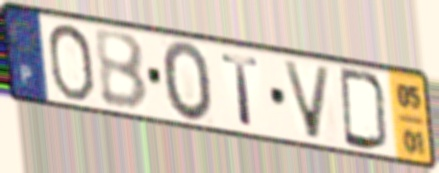B: (91, 29, 151, 114)
D: (337, 64, 392, 154)
O: (160, 38, 216, 125), (45, 22, 97, 104)
T: (219, 51, 262, 130)
V: (279, 57, 335, 142)
